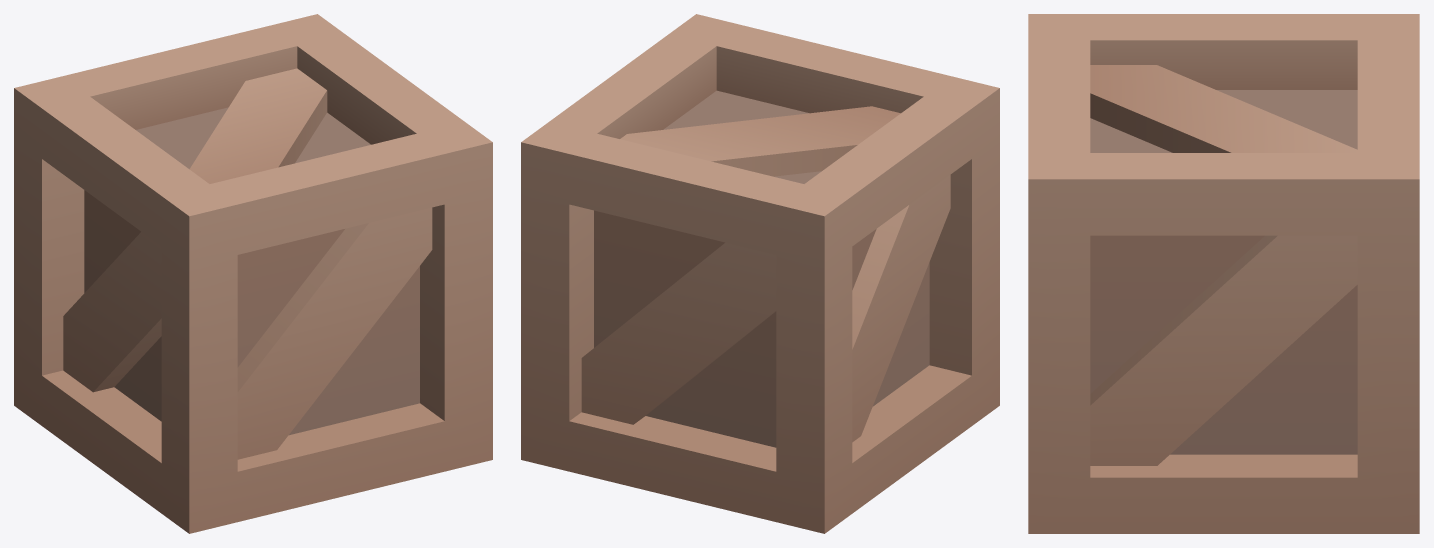
Rendered from crate.glb.
3 renders of one model, left to right at view 1: azimuth 30°, elevation 25°; view 2: azimuth 150°, elevation 25°; view 3: azimuth 270°, elevation 25°, orthographic. The views are drawn at different scales.
Parts seen in each view (by area): view 1: crate; view 2: crate; view 3: crate.
Boxes of the visible parts, left/top/right/bottom form: crate: left=14, top=14, right=492, bottom=533; crate: left=521, top=14, right=999, bottom=533; crate: left=1028, top=14, right=1419, bottom=533.
Size of the model in its own units: 0.5 by 0.5 by 0.5.
